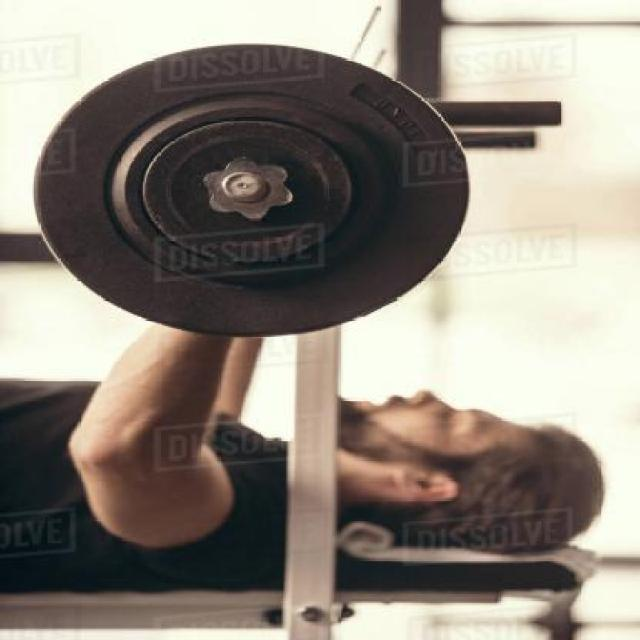barbell: (28, 42, 477, 343)
